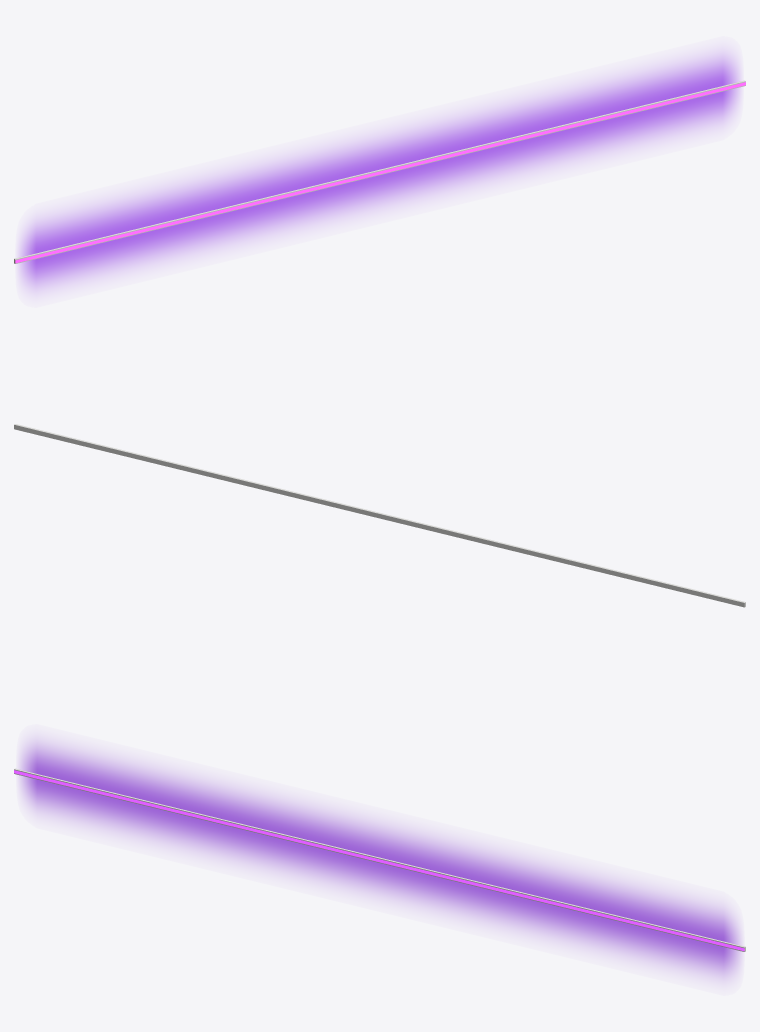
The model's file is obj-led-strip-purple.glb.
3 renders of one model, top to bottom at view 1: azimuth 30°, elevation 25°; view 2: azimuth 150°, elevation 25°; view 3: azimuth 330°, elevation 25°, orthographic.
Visible parts, largest first — view 1: obj-led-strip-purple; view 2: obj-led-strip-purple; view 3: obj-led-strip-purple.
Boxes of the visible parts, left/top/right/bottom form: obj-led-strip-purple: left=14, top=51, right=745, bottom=292; obj-led-strip-purple: left=14, top=424, right=745, bottom=607; obj-led-strip-purple: left=14, top=739, right=745, bottom=980.
Bounding box in the file's own units: 2 × 0.3599 × 0.0061.
Materials: 3 (1 with a texture image).
